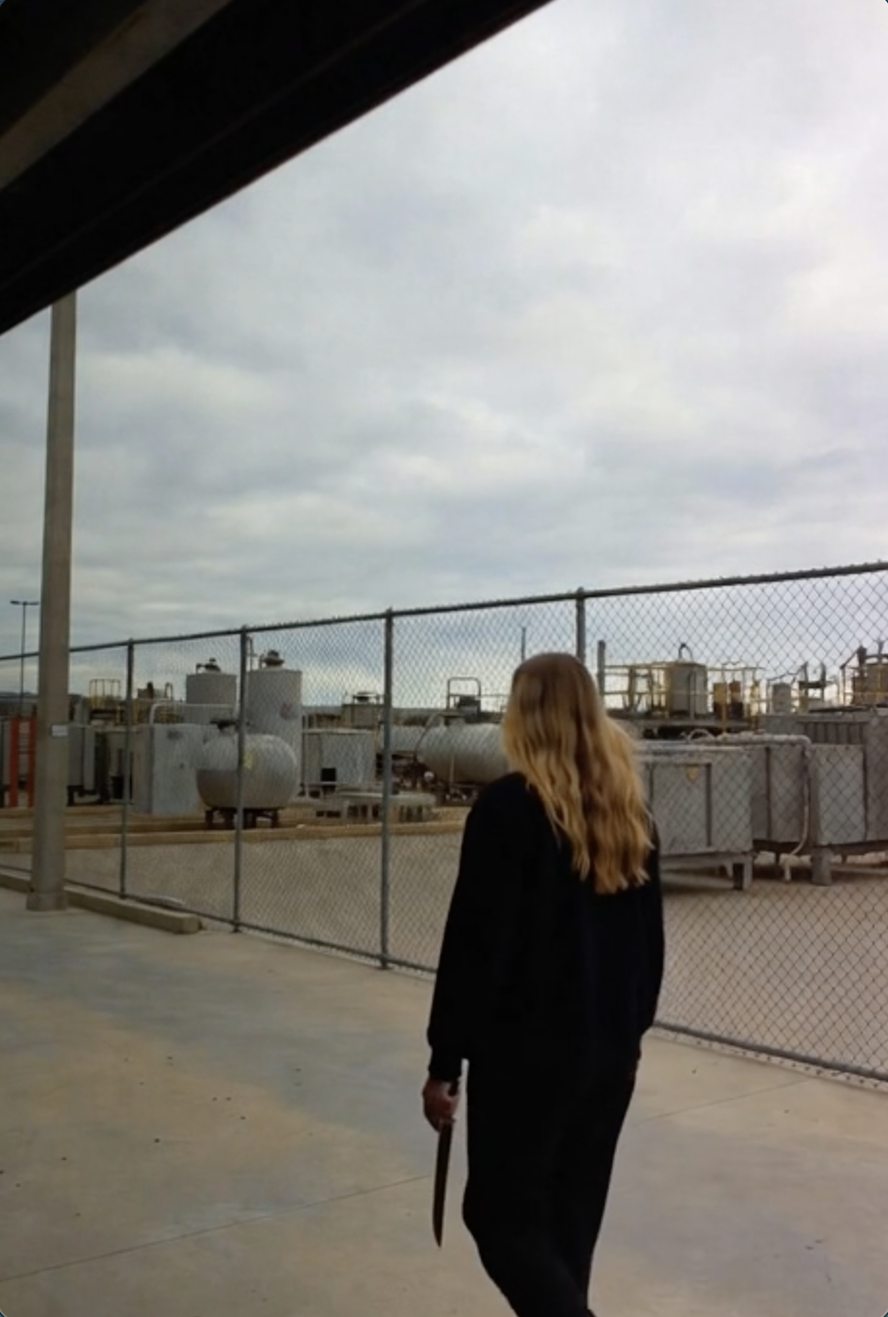Heavy Gun: (416, 648, 675, 1317)
Knife: (416, 1053, 470, 1251)
